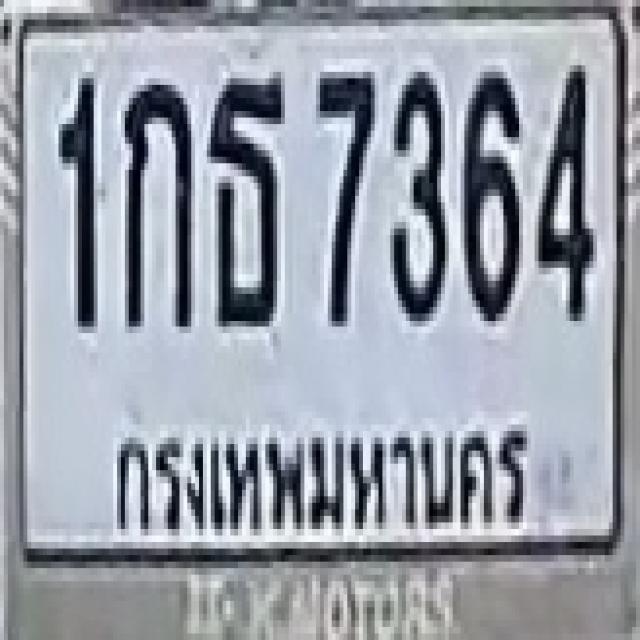-: (207, 72, 281, 320), (123, 78, 189, 326)
1: (56, 72, 95, 326)
3: (386, 65, 445, 314)
4: (535, 59, 589, 313)
6: (461, 65, 519, 314)
7: (316, 65, 371, 320)
